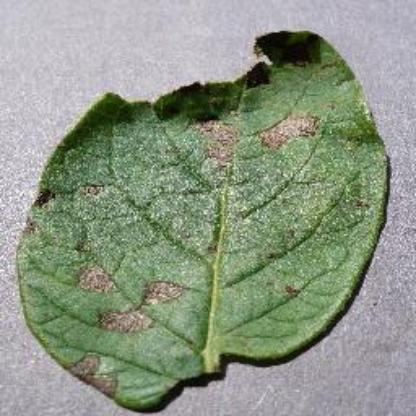Early-Blight: (17, 23, 393, 409)
